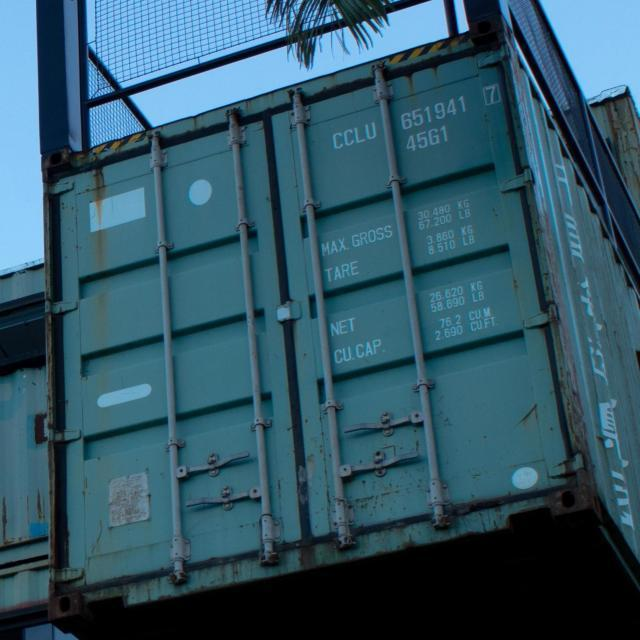ISO: (407, 119, 458, 157)
container_number: (336, 78, 497, 154)
